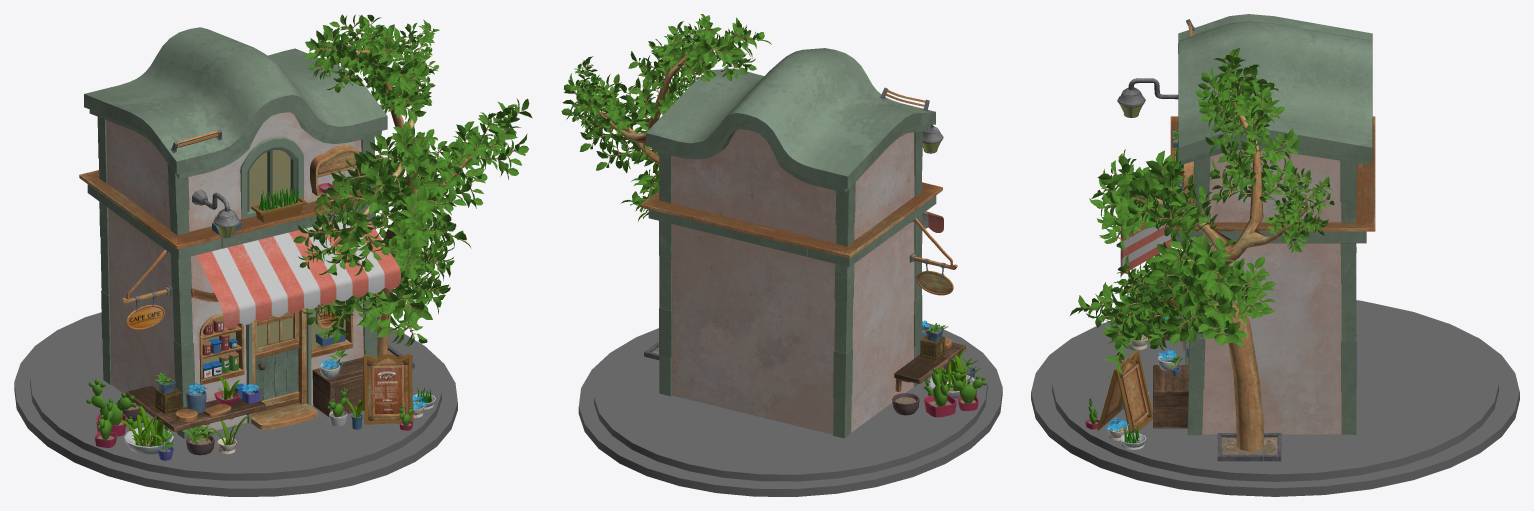
File: cafe_house.glb
3 renders of one model, left to right at view 1: azimuth 30°, elevation 25°; view 2: azimuth 150°, elevation 25°; view 3: azimuth 270°, elevation 25°, orthographic. The views are drawn at different scales.
Visible parts, largest first — view 1: base, Cube.1158, Cube.1161, Plane.021, Cube.1159, Cube.1199, Cube.1153, Cube.1213, Cube.1219, Cube.1152, Cube.1154, Cube.1182 (+38 smaller); view 2: Cube.1161, base, Cube.1158, Cube.1159, Cube.1199, Cube.1153, Cube.1152, tree, branch.052, Cube.1212, branch.062, Circle.070 (+12 smaller); view 3: base, Cube.1161, Cube.1158, Cube.1159, tree, Cube.1199, Cube.820, Plane.021, Cube.1153, Cube.1186, branch.057, branch.083 (+34 smaller).
Boxes of the visible parts, <box> form: base: <box>14,312,457,496</box>; Cube.1158: <box>84,27,387,174</box>; Cube.1161: <box>106,112,364,432</box>; Plane.021: <box>197,217,400,328</box>; Cube.1159: <box>97,117,377,438</box>; Cube.1199: <box>79,170,381,249</box>; Cube.1153: <box>87,184,388,259</box>; Cube.1213: <box>363,354,413,424</box>; Cube.1219: <box>249,149,290,209</box>; Cube.1152: <box>89,108,381,178</box>; Cube.1154: <box>240,137,303,219</box>; Cube.1182: <box>310,144,362,195</box>; Cube.1161: <box>671,129,914,434</box>; base: <box>578,322,1002,496</box>; Cube.1158: <box>646,48,935,188</box>; Cube.1159: <box>659,131,922,438</box>; Cube.1199: <box>641,182,942,258</box>; Cube.1153: <box>648,195,936,267</box>; Cube.1152: <box>652,125,930,192</box>; tree: <box>590,47,695,164</box>; branch.052: <box>596,133,649,172</box>; Cube.1212: <box>894,354,948,383</box>; branch.062: <box>699,36,744,65</box>; Circle.070: <box>916,271,953,295</box>; base: <box>1031,300,1519,496</box>; Cube.1161: <box>1202,149,1341,434</box>; Cube.1158: <box>1178,14,1372,161</box>; Cube.1159: <box>1187,157,1356,435</box>; tree: <box>1133,102,1307,451</box>; Cube.1199: <box>1170,116,1375,231</box>; Cube.820: <box>1115,351,1152,432</box>; Plane.021: <box>1120,164,1175,277</box>; Cube.1153: <box>1176,231,1366,243</box>; Cube.1186: <box>1153,396,1188,428</box>; branch.057: <box>1197,255,1241,301</box>; branch.083: <box>1169,186,1217,230</box>.
Size of the model in its own units: 7.27 by 5.69 by 6.49.
6 materials, 5 textured.
